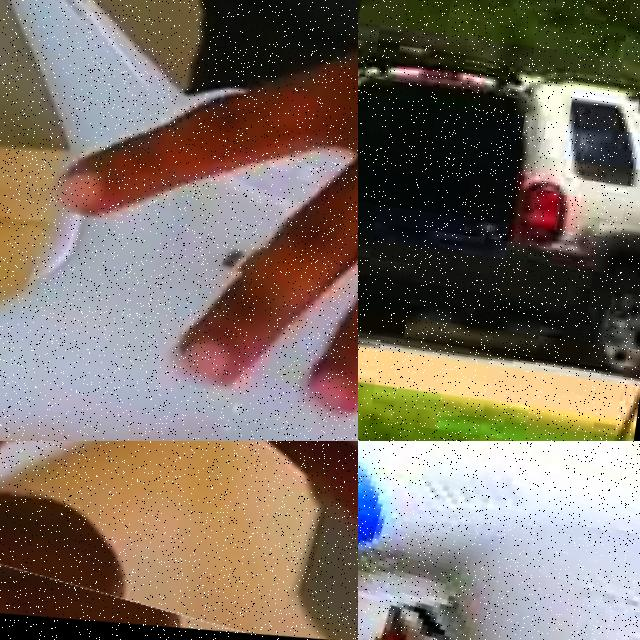drone: (0, 0, 358, 441), (0, 441, 358, 640), (358, 441, 640, 640)
